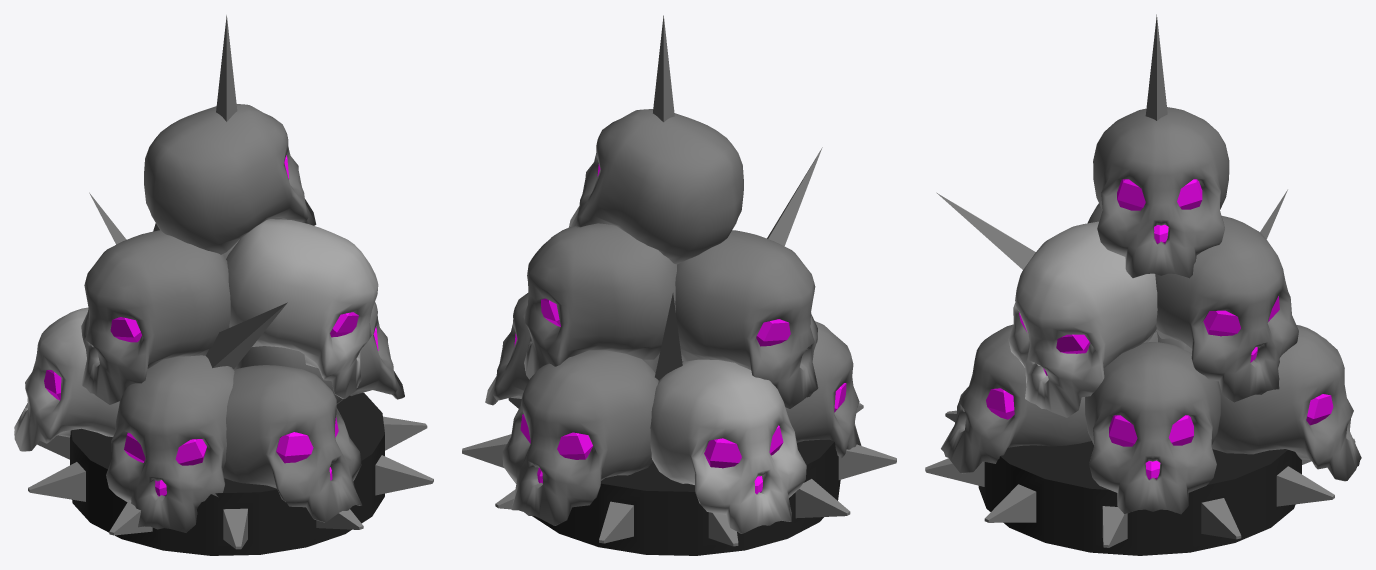
Rendered from SkullPile.fbx.
The picture shows the model from 3 angles, left to right: view 1: azimuth 30°, elevation 25°; view 2: azimuth 150°, elevation 25°; view 3: azimuth 270°, elevation 25°; orthographic projection. The views are drawn at different scales.
Parts seen in each view (by area): view 1: Skulls, Stand; view 2: Skulls, Stand; view 3: Skulls, Stand.
Part boxes in pixels (x1=…): Skulls: x1=14, y1=104, x2=404, y2=532; Stand: x1=28, y1=15, x2=433, y2=555; Skulls: x1=485, y1=109, x2=861, y2=533; Stand: x1=462, y1=15, x2=896, y2=555; Skulls: x1=941, y1=107, x2=1361, y2=514; Stand: x1=925, y1=14, x2=1355, y2=555.
Size of the model in its own units: 7.4 by 9.07 by 7.51.
